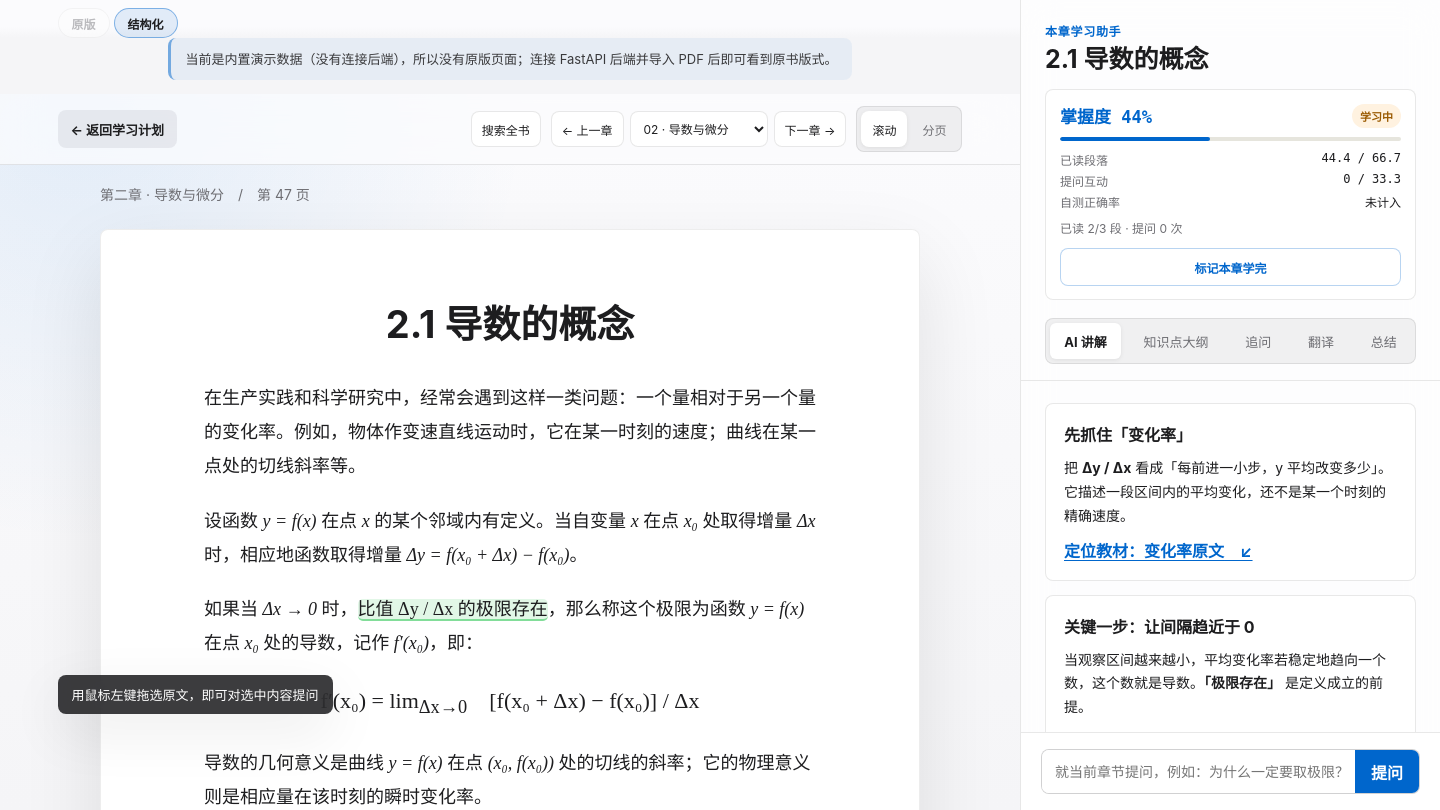
Scenario: 划词问答 › 依据来自其他章节时标出章节名并可跳过去核对
The width and height of the screenshot is (1440, 810).
Expected: the element with test id "paper" is shown, [100,229,920,809]
In the field named "提问输入框": (1198, 772) [1042,750,1355,793], type "导数的定义是什么？"
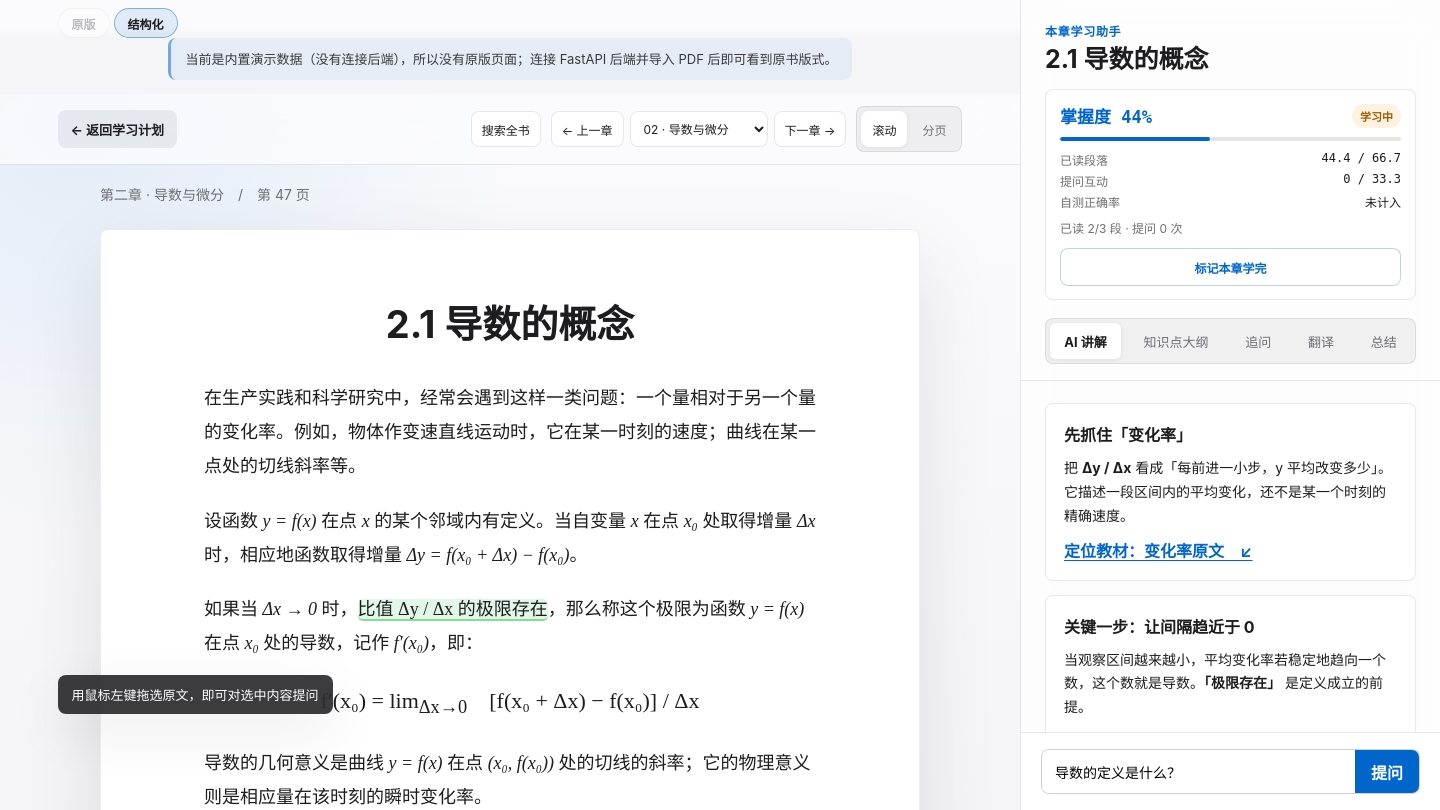
Click the button "提问": (1387, 772) [1355,750,1419,793]
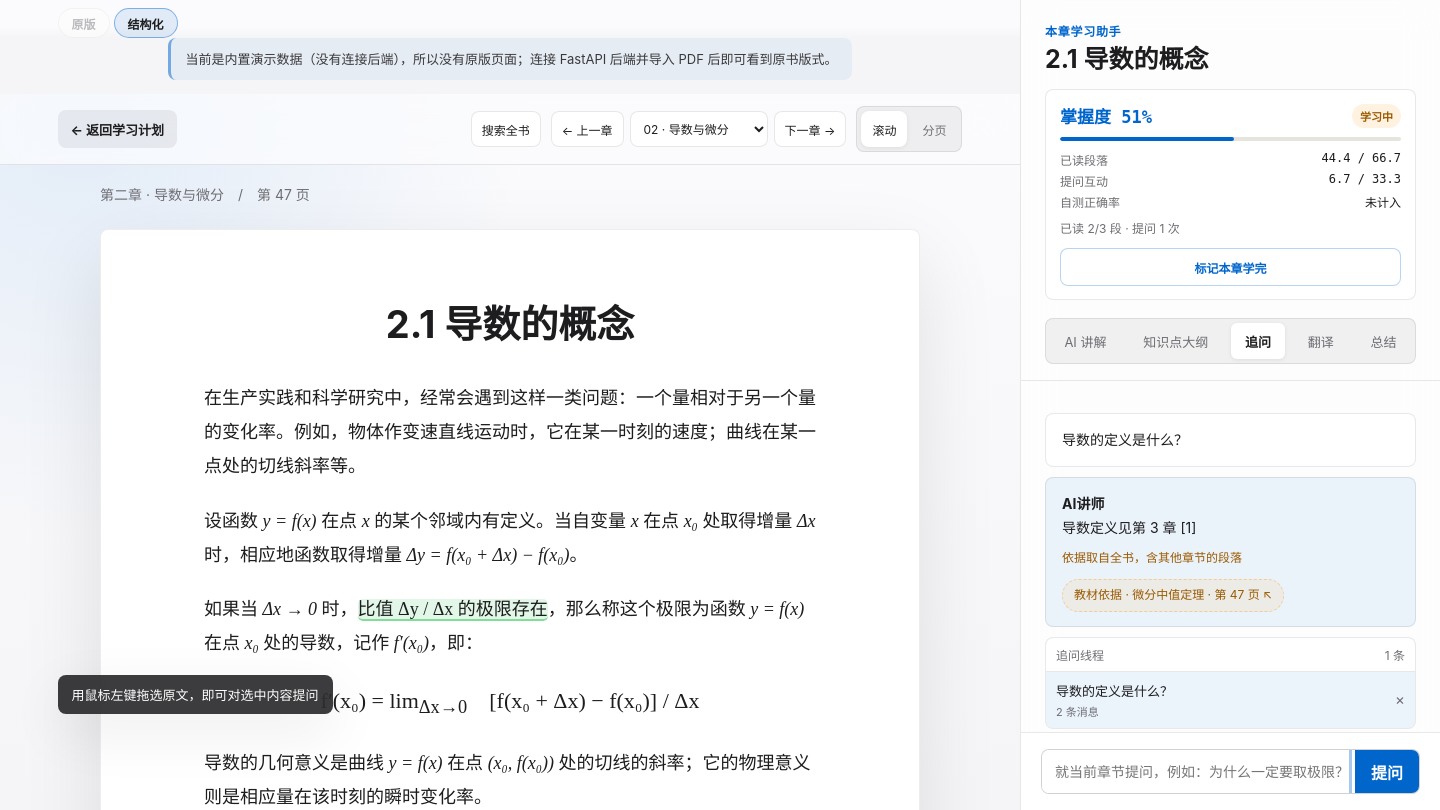
Expected: the text "依据取自全书，含其他章节的段落" is shown, [1062,550,1242,565]
Click the button "教材依据 · 微分中值定理 · 第 47 页 ↖": (1173, 595) [1062,579,1284,612]
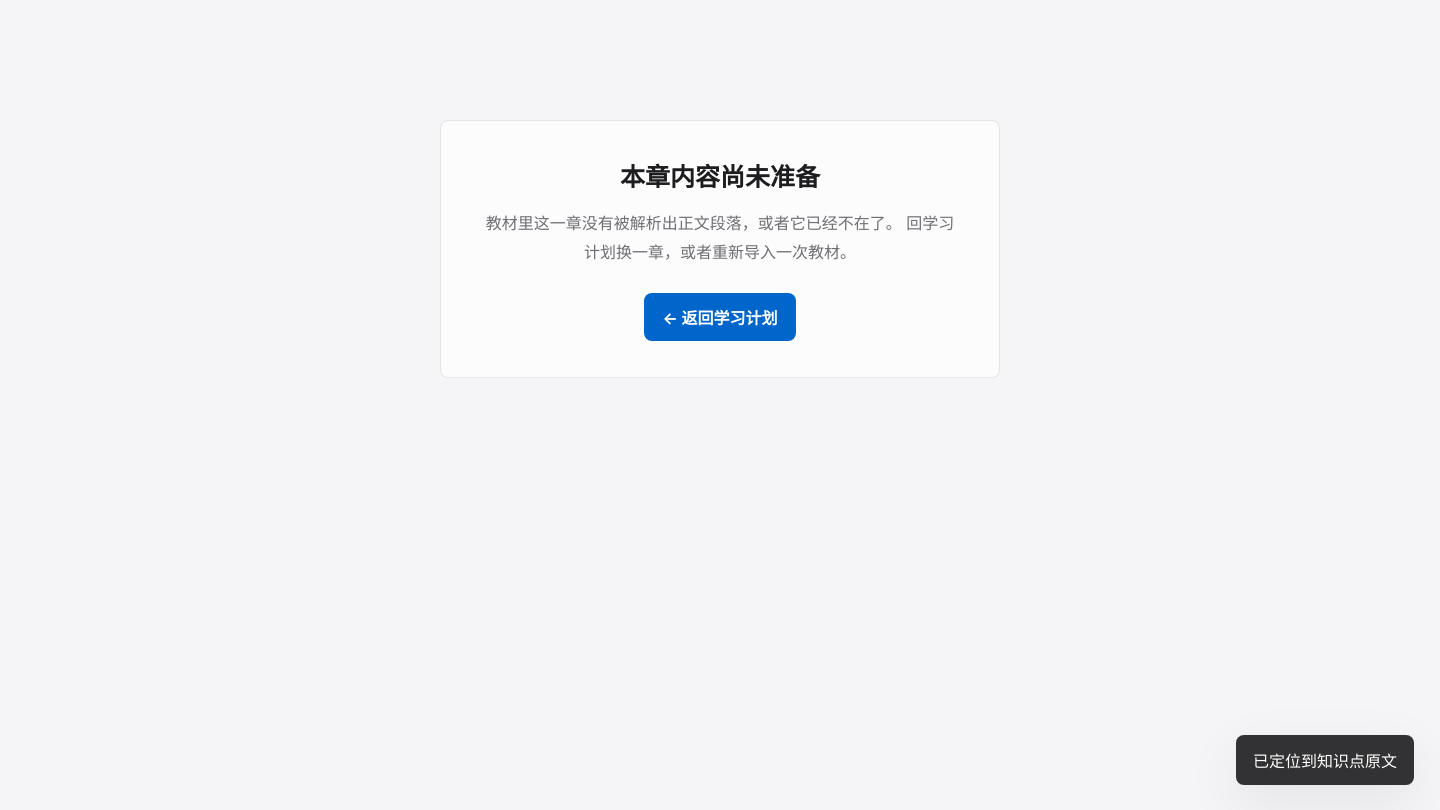
Expected: the heading "本章内容尚未准备" is shown, [620,162,820,192]
